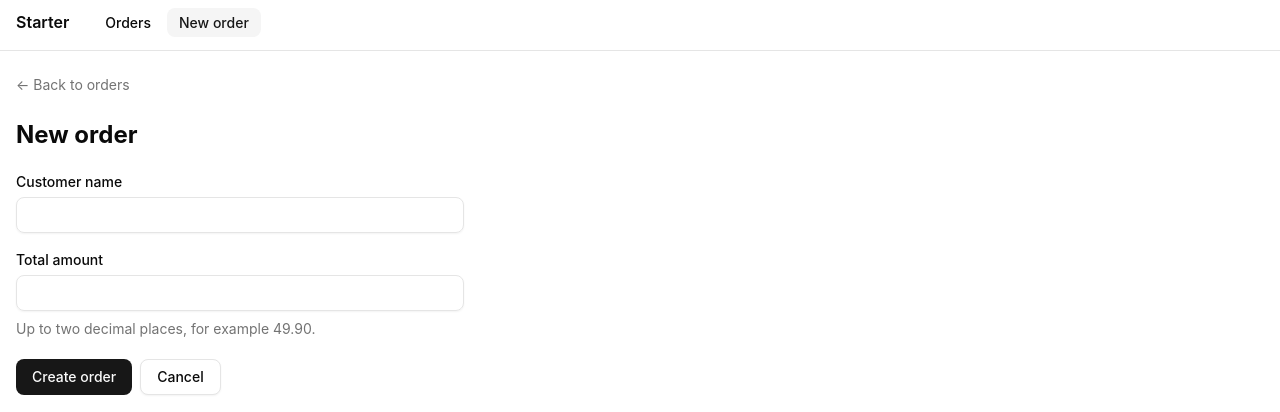
Scenario: create order (/orders/new) › posts the order and navigates to its detail page
This screenshot has width=1280, height=412.
Type "Ada Lovelace" into the field labelled "Customer name" at (240, 215), box [16,197,464,233]
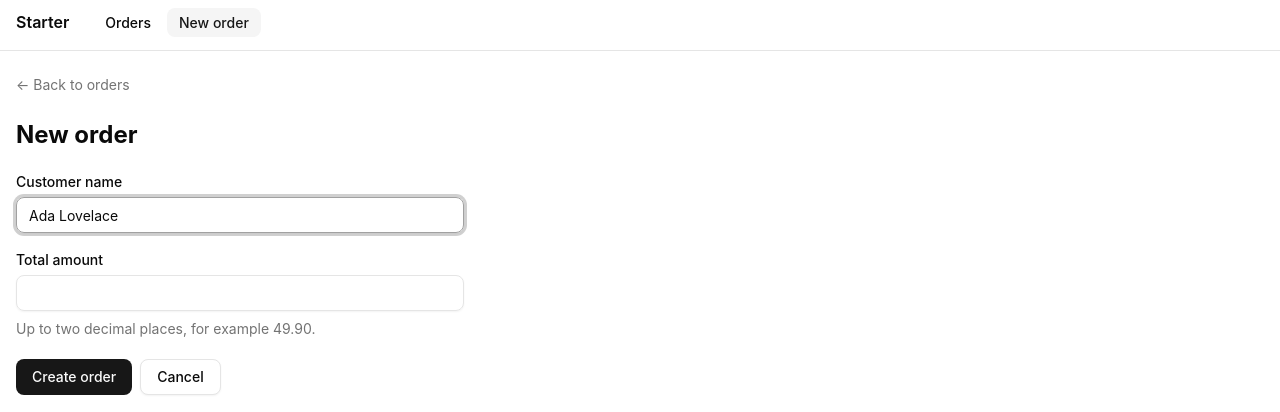
Type "49.90" into the field labelled "Total amount" at (240, 293), box [16,275,464,311]
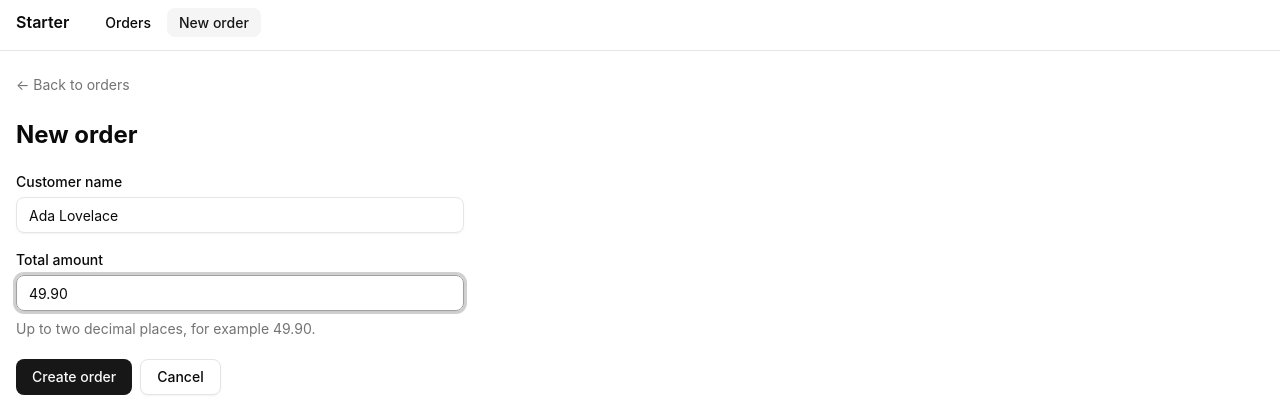
Press Enter
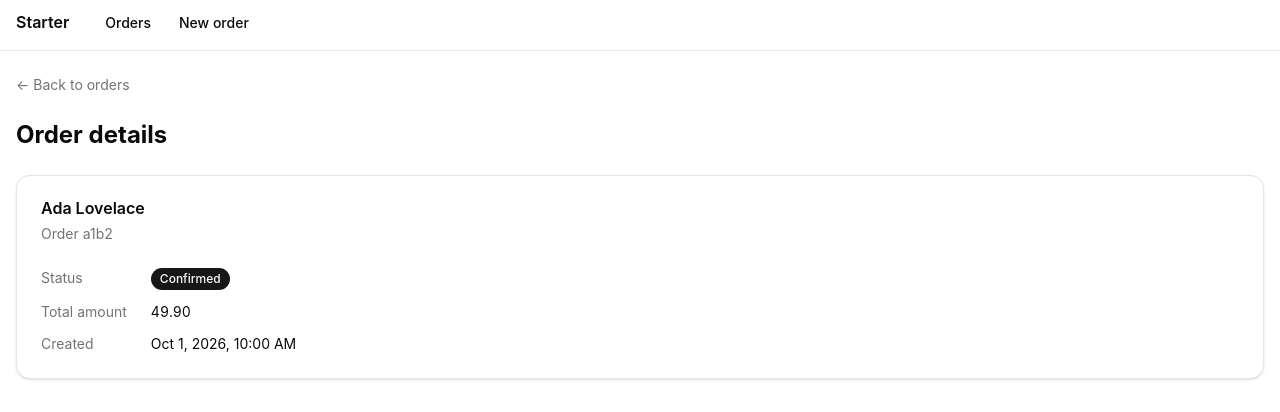
Expected: the heading "Ada Lovelace" is shown, [41,198,145,218]
